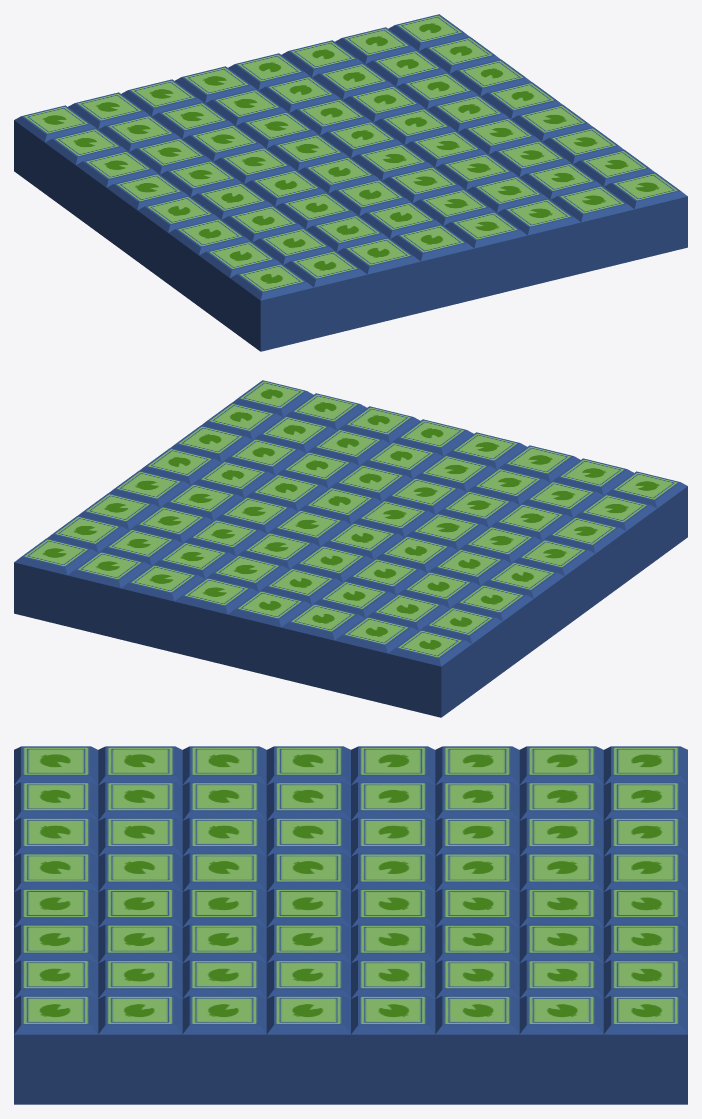
The model's file is new board.fbx.
3 views of the same model, one above another, from view 1: azimuth 30°, elevation 25°; view 2: azimuth 150°, elevation 25°; view 3: azimuth 270°, elevation 25° (orthographic). The views are drawn at different scales.
Visible parts, largest first — view 1: Cube; view 2: Cube; view 3: Cube.
Boxes of the visible parts, <box> form: Cube: <box>14,14,687,351</box>; Cube: <box>14,380,687,717</box>; Cube: <box>14,746,687,1104</box>.
Size of the model in its own units: 800 by 100 by 800.
